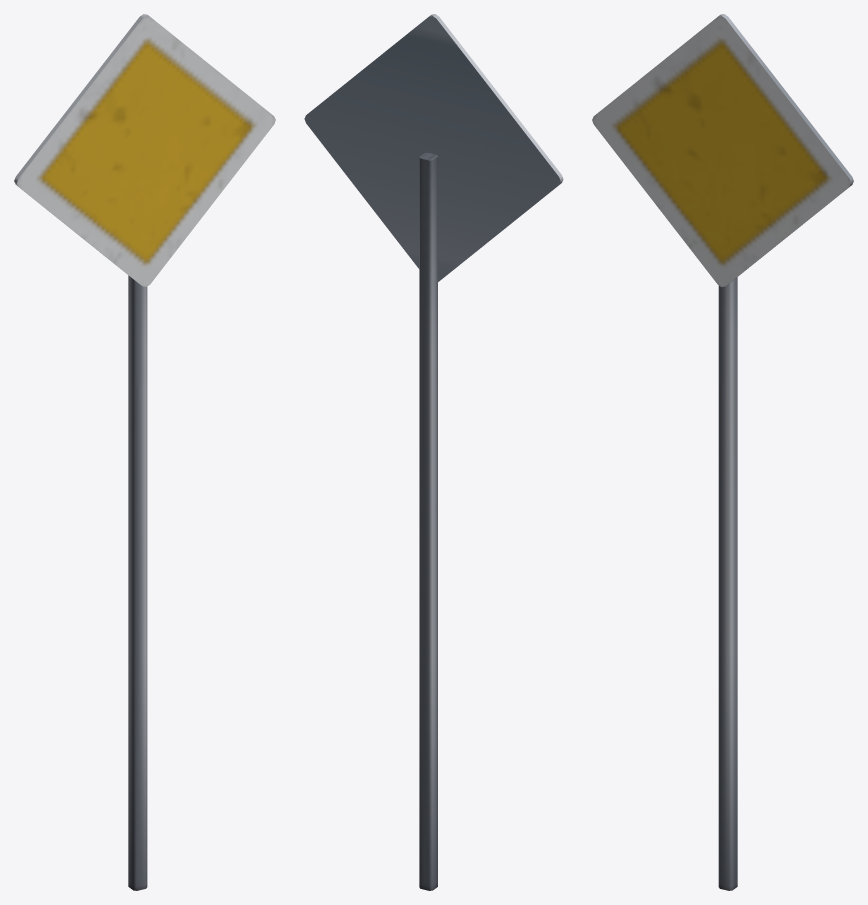
The model's file is Sign_04.fbx.
3 views of the same model, side by side, from view 1: azimuth 30°, elevation 25°; view 2: azimuth 150°, elevation 25°; view 3: azimuth 330°, elevation 25° (orthographic).
Visible parts, largest first — view 1: road_sign_4_Mesh; view 2: road_sign_4_Mesh; view 3: road_sign_4_Mesh.
Part boxes in pixels (left/top/right/bottom): road_sign_4_Mesh: left=14, top=14, right=275, bottom=890; road_sign_4_Mesh: left=304, top=14, right=563, bottom=890; road_sign_4_Mesh: left=592, top=14, right=853, bottom=890.
Bounding box in the file's own units: 82.13 × 266 × 6.37.
